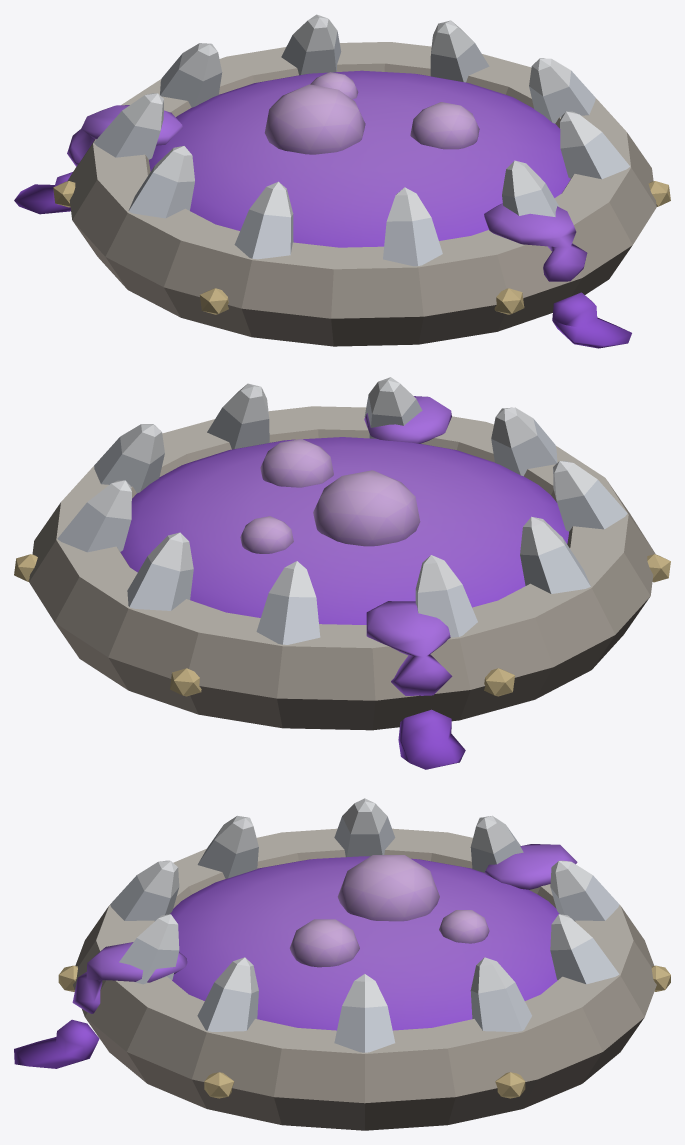
Rendered from pvp_goo_trap_3.fbx.
3 renders of one model, top to bottom at view 1: azimuth 30°, elevation 25°; view 2: azimuth 150°, elevation 25°; view 3: azimuth 270°, elevation 25°, orthographic. The views are drawn at different scales.
Visible parts, largest first — view 1: pvp_goo_trap_3; view 2: pvp_goo_trap_3; view 3: pvp_goo_trap_3.
Boxes of the visible parts, x1,y1,x2,y2 form: pvp_goo_trap_3: (14, 14, 670, 348); pvp_goo_trap_3: (14, 377, 670, 769); pvp_goo_trap_3: (14, 798, 670, 1130).
Size of the model in its own units: 3.68 by 1 by 4.11.
